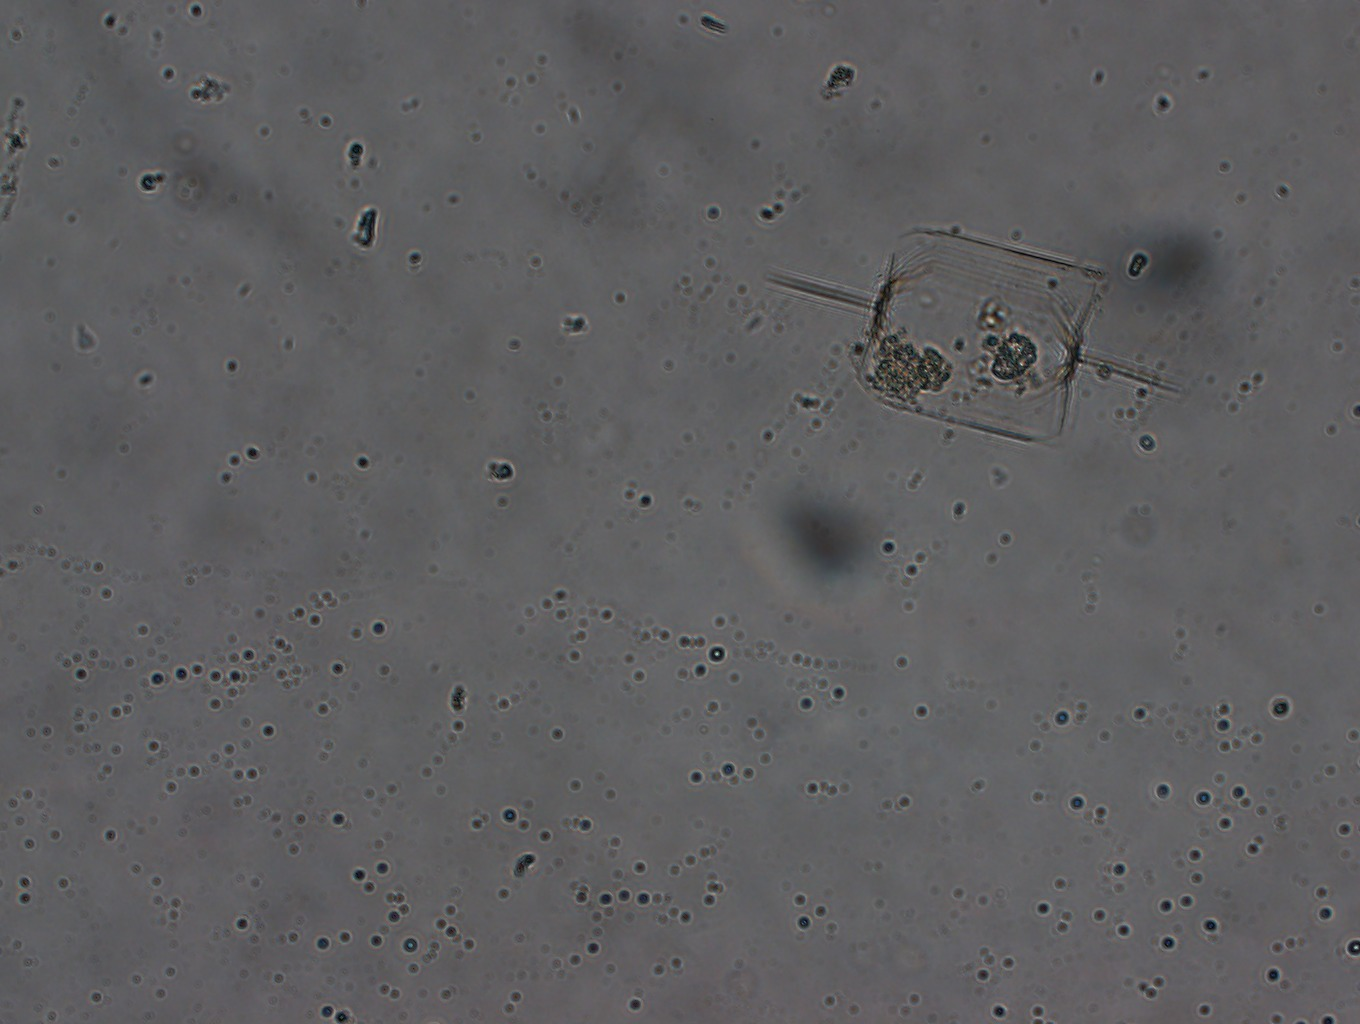ditylum: (764, 227, 1186, 442)
